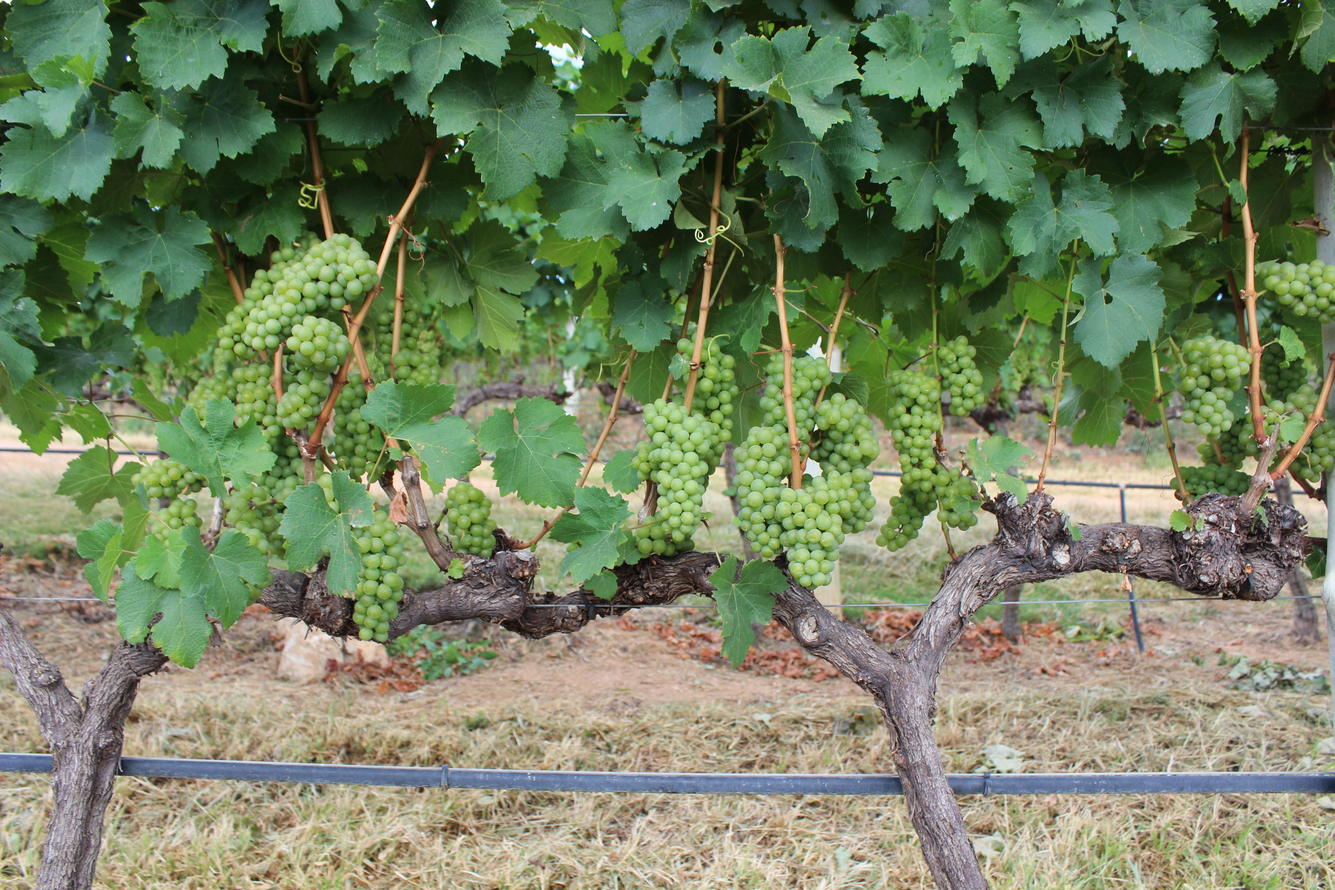leaf: (431, 63, 569, 201), (376, 0, 510, 114), (361, 381, 480, 491), (85, 205, 212, 307), (1008, 169, 1118, 279), (155, 399, 276, 496), (279, 471, 374, 594), (478, 398, 585, 506), (0, 108, 115, 202), (873, 128, 977, 231), (1072, 255, 1165, 367), (948, 93, 1042, 203), (862, 13, 962, 108), (178, 526, 271, 627), (709, 556, 787, 666), (1179, 62, 1277, 142), (550, 487, 630, 583), (1117, 0, 1215, 73), (949, 0, 1020, 87), (56, 446, 142, 513), (640, 78, 714, 144), (612, 275, 674, 353), (152, 590, 213, 667), (76, 519, 132, 602), (966, 436, 1033, 502), (134, 526, 203, 588), (115, 561, 166, 643), (602, 449, 641, 493), (583, 570, 618, 600), (144, 582, 150, 583), (153, 538, 155, 540), (136, 562, 138, 564), (330, 0, 332, 2), (410, 105, 411, 109), (122, 581, 123, 583), (174, 592, 175, 592), (206, 551, 207, 551), (229, 530, 231, 530)
